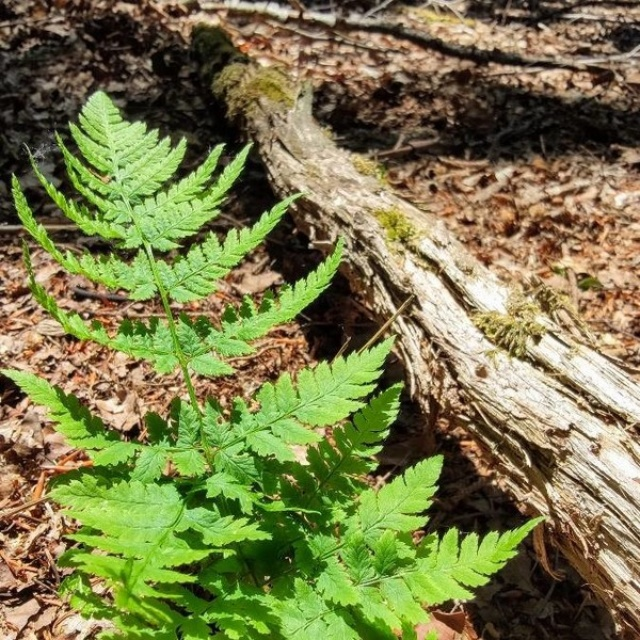obstacle: (29, 96, 481, 610)
